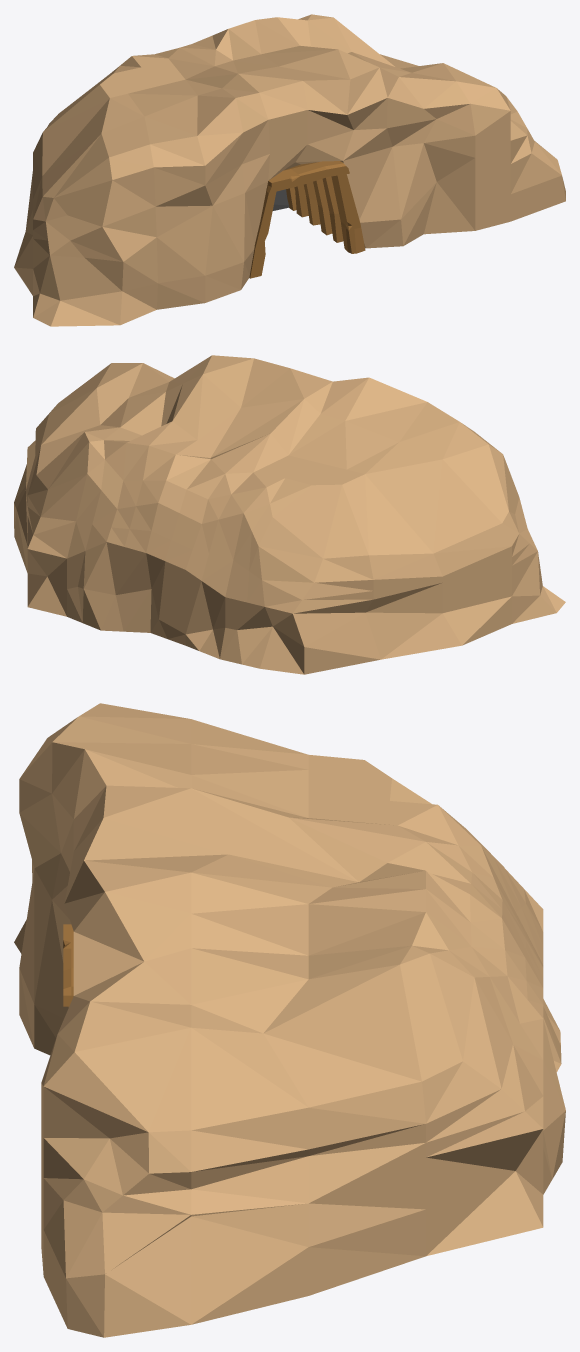
File: Mine.fbx
3 views of the same model, one above another, from view 1: azimuth 30°, elevation 25°; view 2: azimuth 150°, elevation 25°; view 3: azimuth 270°, elevation 25° (orthographic). The views are drawn at different scales.
Parts seen in each view (by area): view 1: Mine; view 2: Mine; view 3: Mine.
Part boxes in pixels (box(x1,y1,x2,y2)): Mine: box(14, 14, 565, 326); Mine: box(14, 355, 565, 674); Mine: box(14, 703, 565, 1337).
Size of the model in its own units: 2066 by 1086 by 670.
